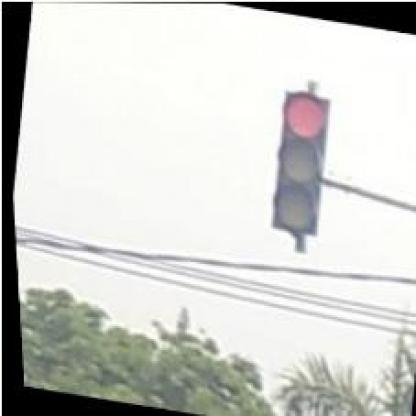red: (258, 86, 336, 233)
